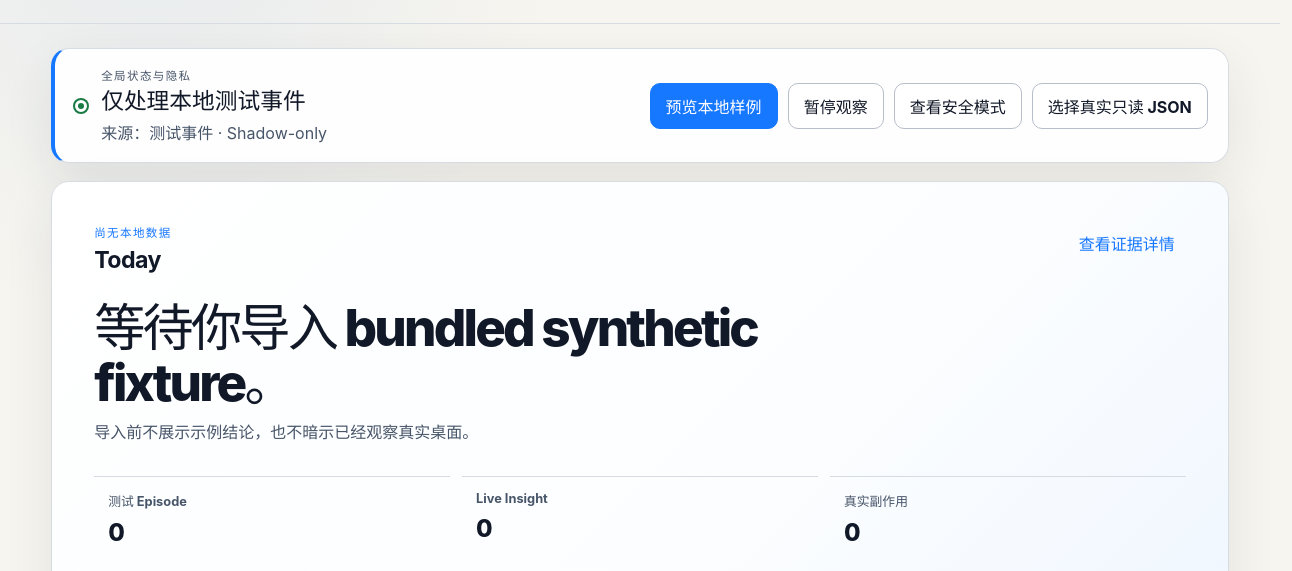
it: runnable Insight Loop UI › invalidates an outstanding preview when PRIVATE advances the epoch
What coordinates should you click on to do the following:
click the button "预览本地样例"
I would click on:
 (714, 106)
Its box is [650, 82, 778, 128].
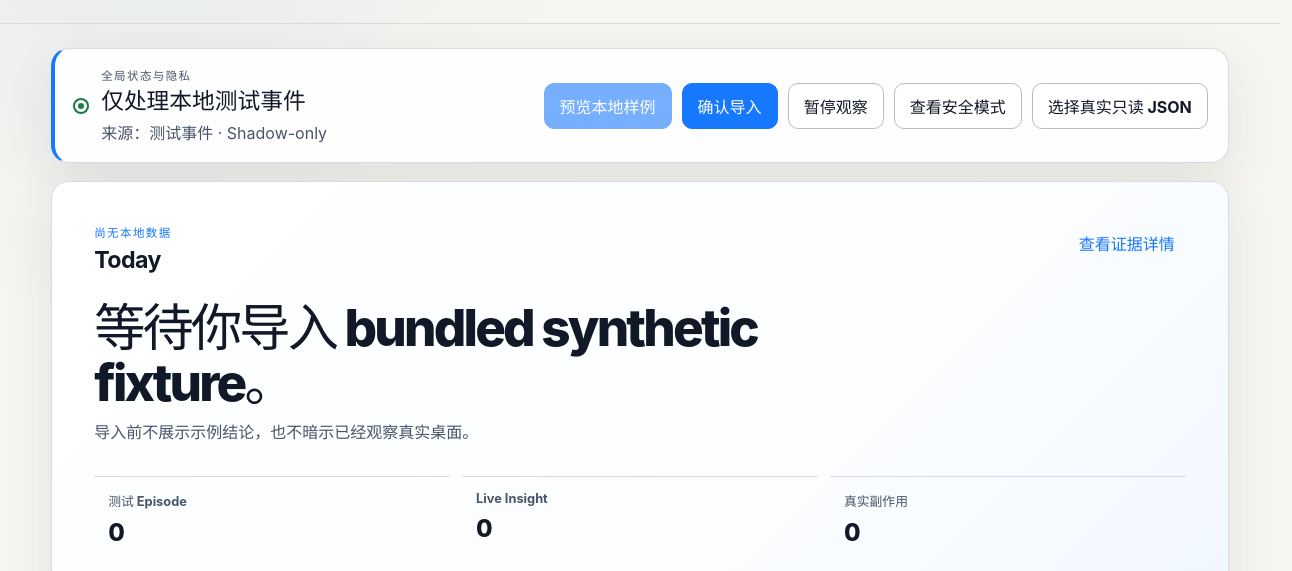
Now the button "确认导入" is shown, box [682, 82, 778, 128]
What coordinates should you click on to do the following:
click the button "暂停观察"
I would click on:
 (836, 106)
Its box is [788, 82, 884, 128].
(page scrolled)
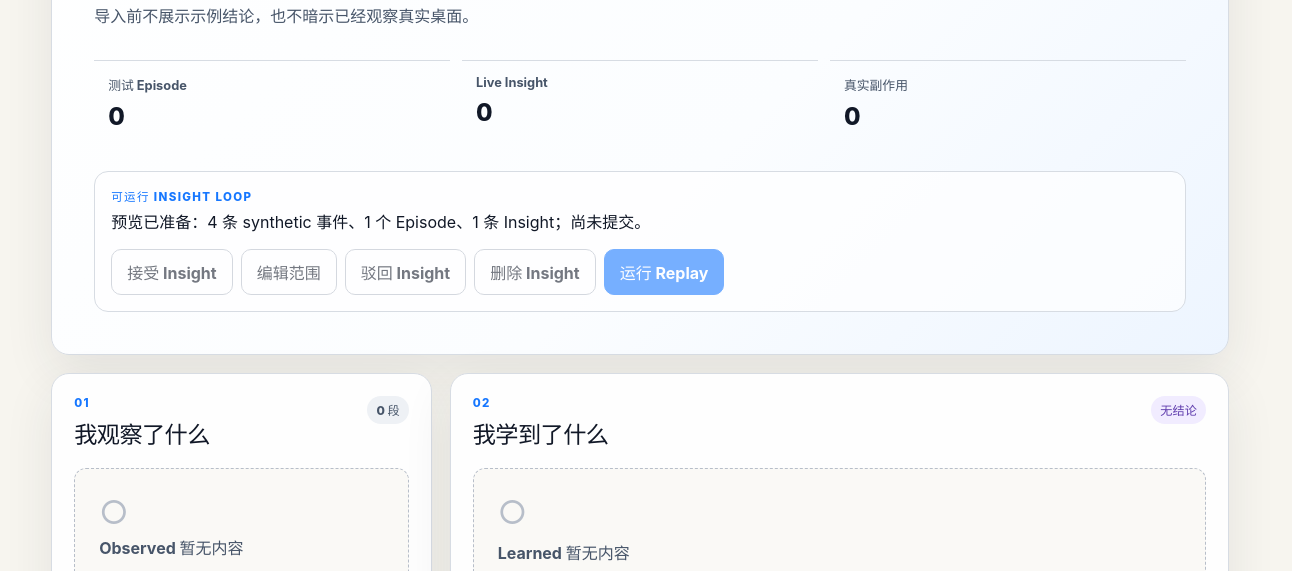
Expected: the button "运行 Replay" is disabled, [604, 249, 724, 295]
Now the button "确认导入" is gone
